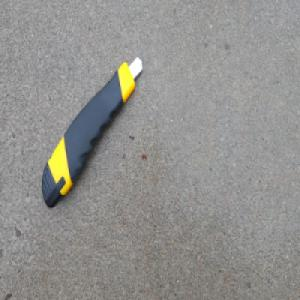Cutter: (42, 54, 144, 210)
